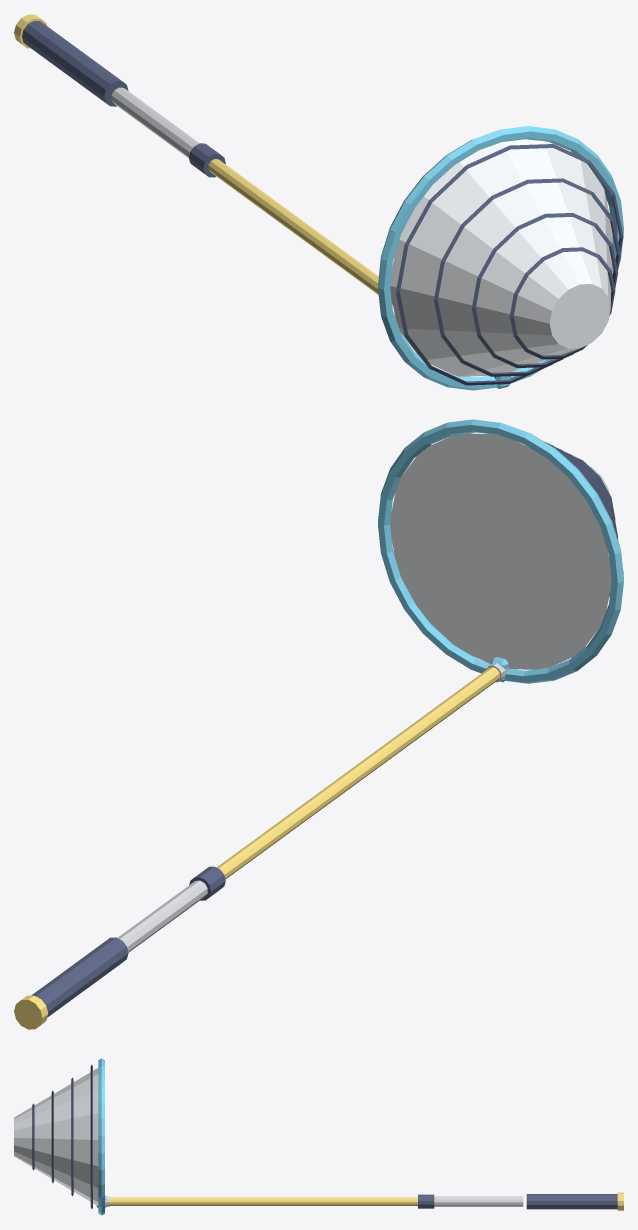
File: T_net_pole_v2.glb
3 views of the same model, one above another, from view 1: azimuth 30°, elevation 25°; view 2: azimuth 150°, elevation 25°; view 3: azimuth 270°, elevation 25° (orthographic). The views are drawn at different scales.
Parts seen in each view (by area): view 1: Netting, Hoop, Pole, Grip; view 2: Netting, Hoop, Pole, Grip; view 3: Netting, Pole, Grip, Hoop.
Boxes of the visible parts, <box> form: Netting: <box>390,140,623,385</box>; Hoop: <box>378,126,623,390</box>; Pole: <box>111,87,494,377</box>; Grip: <box>14,14,128,106</box>; Netting: <box>390,433,623,669</box>; Hoop: <box>378,419,623,683</box>; Pole: <box>117,663,508,952</box>; Grip: <box>14,937,128,1029</box>; Netting: <box>14,1064,98,1209</box>; Pole: <box>105,1194,523,1208</box>; Grip: <box>526,1192,623,1210</box>; Hoop: <box>96,1058,106,1215</box>.
Bounding box in the file's own units: 0.484 × 0.49 × 1.88.
